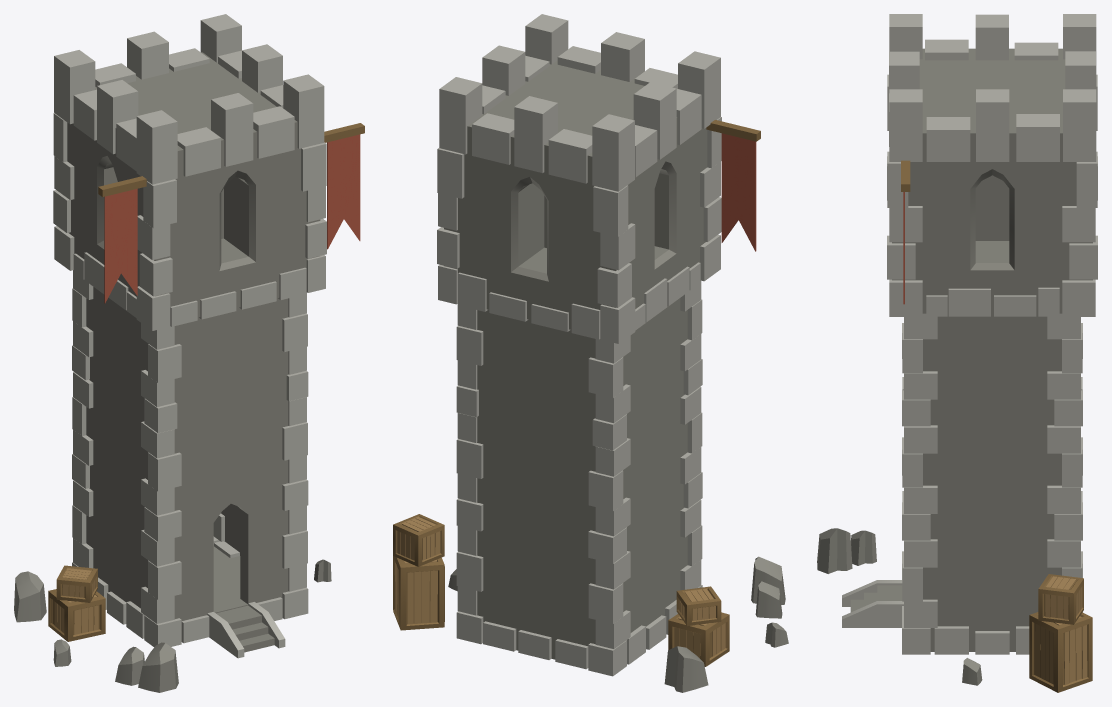
The model's file is castle-tower.glb.
3 renders of one model, left to right at view 1: azimuth 30°, elevation 25°; view 2: azimuth 150°, elevation 25°; view 3: azimuth 270°, elevation 25°, orthographic. The views are drawn at different scales.
Parts seen in each view (by area): view 1: WatchTower_SecondAge_Level2; view 2: WatchTower_SecondAge_Level2; view 3: WatchTower_SecondAge_Level2.
Boxes of the visible parts, x1,y1,x2,y2 form: WatchTower_SecondAge_Level2: (14,14,364,692); WatchTower_SecondAge_Level2: (393,14,788,692); WatchTower_SecondAge_Level2: (817,14,1097,692).
Size of the model in its own units: 0.8384 by 1.36 by 0.6139.
Materials: 1 (1 with a texture image).
